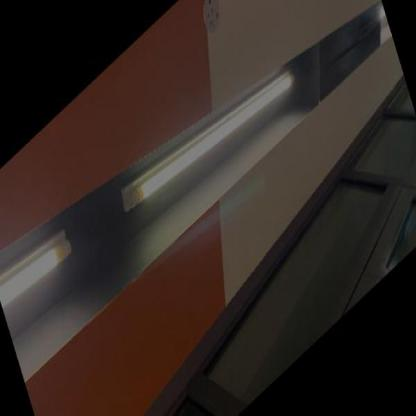light_on: (112, 23, 308, 254), (0, 190, 83, 332), (368, 0, 398, 65)
